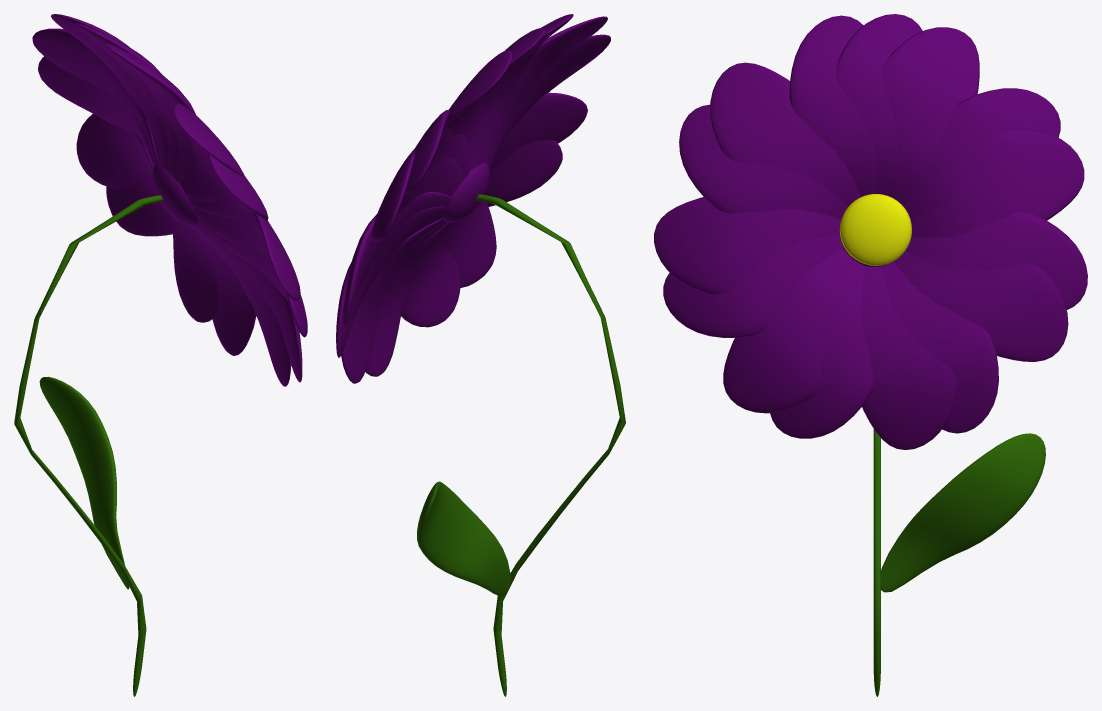
The model's file is Flower.fbx.
3 views of the same model, side by side, from view 1: azimuth 30°, elevation 25°; view 2: azimuth 150°, elevation 25°; view 3: azimuth 270°, elevation 25° (orthographic). The views are drawn at different scales.
Parts seen in each view (by area): view 1: petals, leaf, stem; view 2: petals, leaf, stem; view 3: petals, leaf, center, stem.
Part boxes in pixels (left/top/right/bottom): petals: left=32, top=14, right=307, bottom=386; leaf: left=39, top=376, right=129, bottom=589; stem: left=14, top=195, right=162, bottom=696; petals: left=336, top=14, right=610, bottom=383; leaf: left=417, top=481, right=510, bottom=596; stem: left=476, top=194, right=625, bottom=696; petals: left=654, top=14, right=1087, bottom=449; leaf: left=880, top=433, right=1045, bottom=592; center: left=839, top=194, right=911, bottom=265; stem: left=873, top=429, right=880, bottom=696.
Size of the model in its own units: 7.51 by 20.18 by 11.99.
